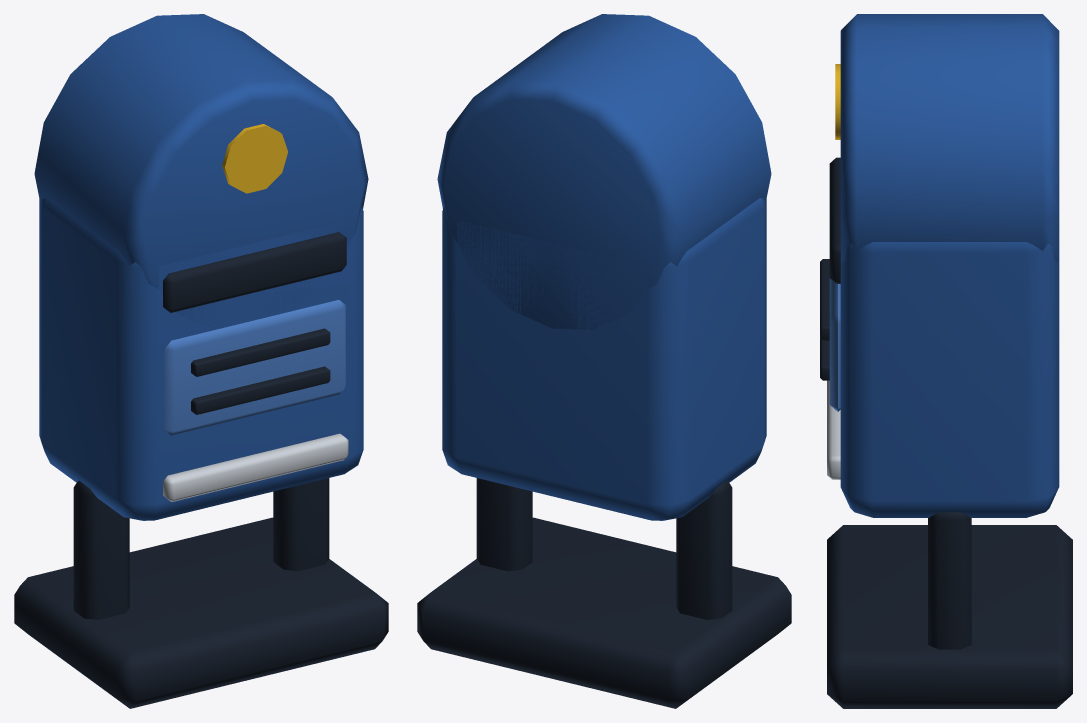
Rendered from street_mailbox.glb.
The picture shows the model from 3 angles, left to right: view 1: azimuth 30°, elevation 25°; view 2: azimuth 150°, elevation 25°; view 3: azimuth 270°, elevation 25°; orthographic projection. The views are drawn at different scales.
Visible parts, largest first — view 1: street_mailbox; view 2: street_mailbox; view 3: street_mailbox.
Part boxes in pixels (x1=…): street_mailbox: x1=14, y1=14, x2=388, y2=708; street_mailbox: x1=417, y1=14, x2=791, y2=708; street_mailbox: x1=820, y1=14, x2=1072, y2=708.
Bounding box in the file's own units: 0.6 × 1.25 × 0.4625.
